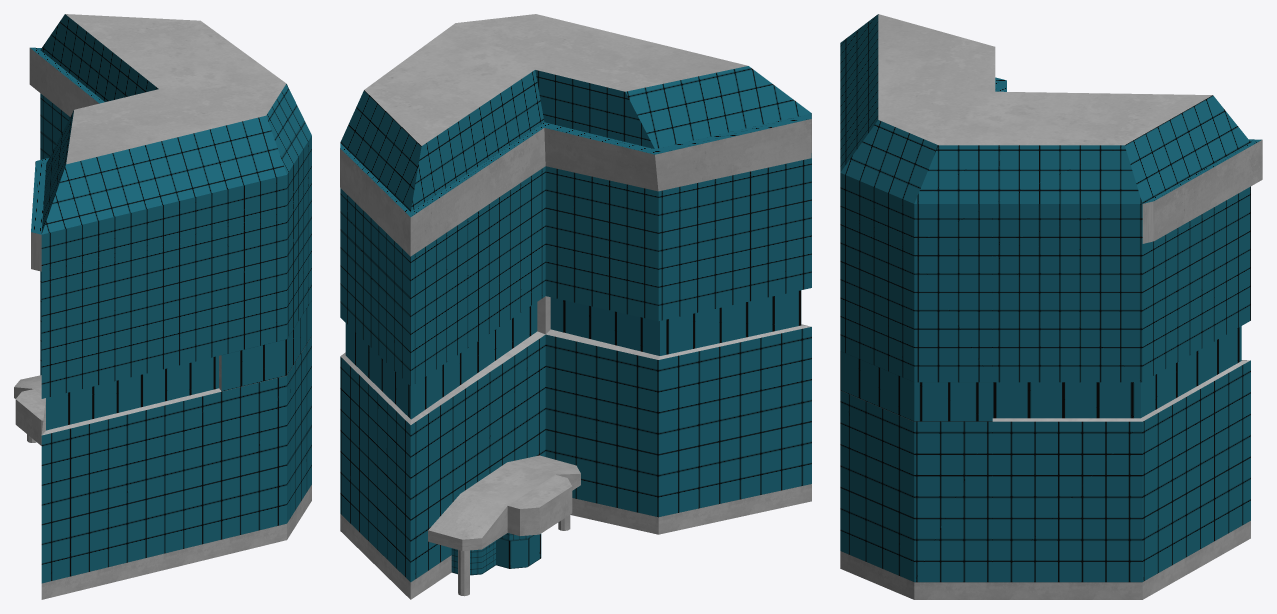
Rendered from SkyScraper_2.fbx.
3 renders of one model, left to right at view 1: azimuth 30°, elevation 25°; view 2: azimuth 150°, elevation 25°; view 3: azimuth 270°, elevation 25°, orthographic. The views are drawn at different scales.
Visible parts, largest first — view 1: skyscraper_2; view 2: skyscraper_2; view 3: skyscraper_2.
Part boxes in pixels (left/top/right/bottom): skyscraper_2: left=14, top=14, right=311, bottom=599; skyscraper_2: left=340, top=14, right=811, bottom=599; skyscraper_2: left=840, top=14, right=1262, bottom=599.
Bounding box in the file's own units: 118 × 151 × 129.
